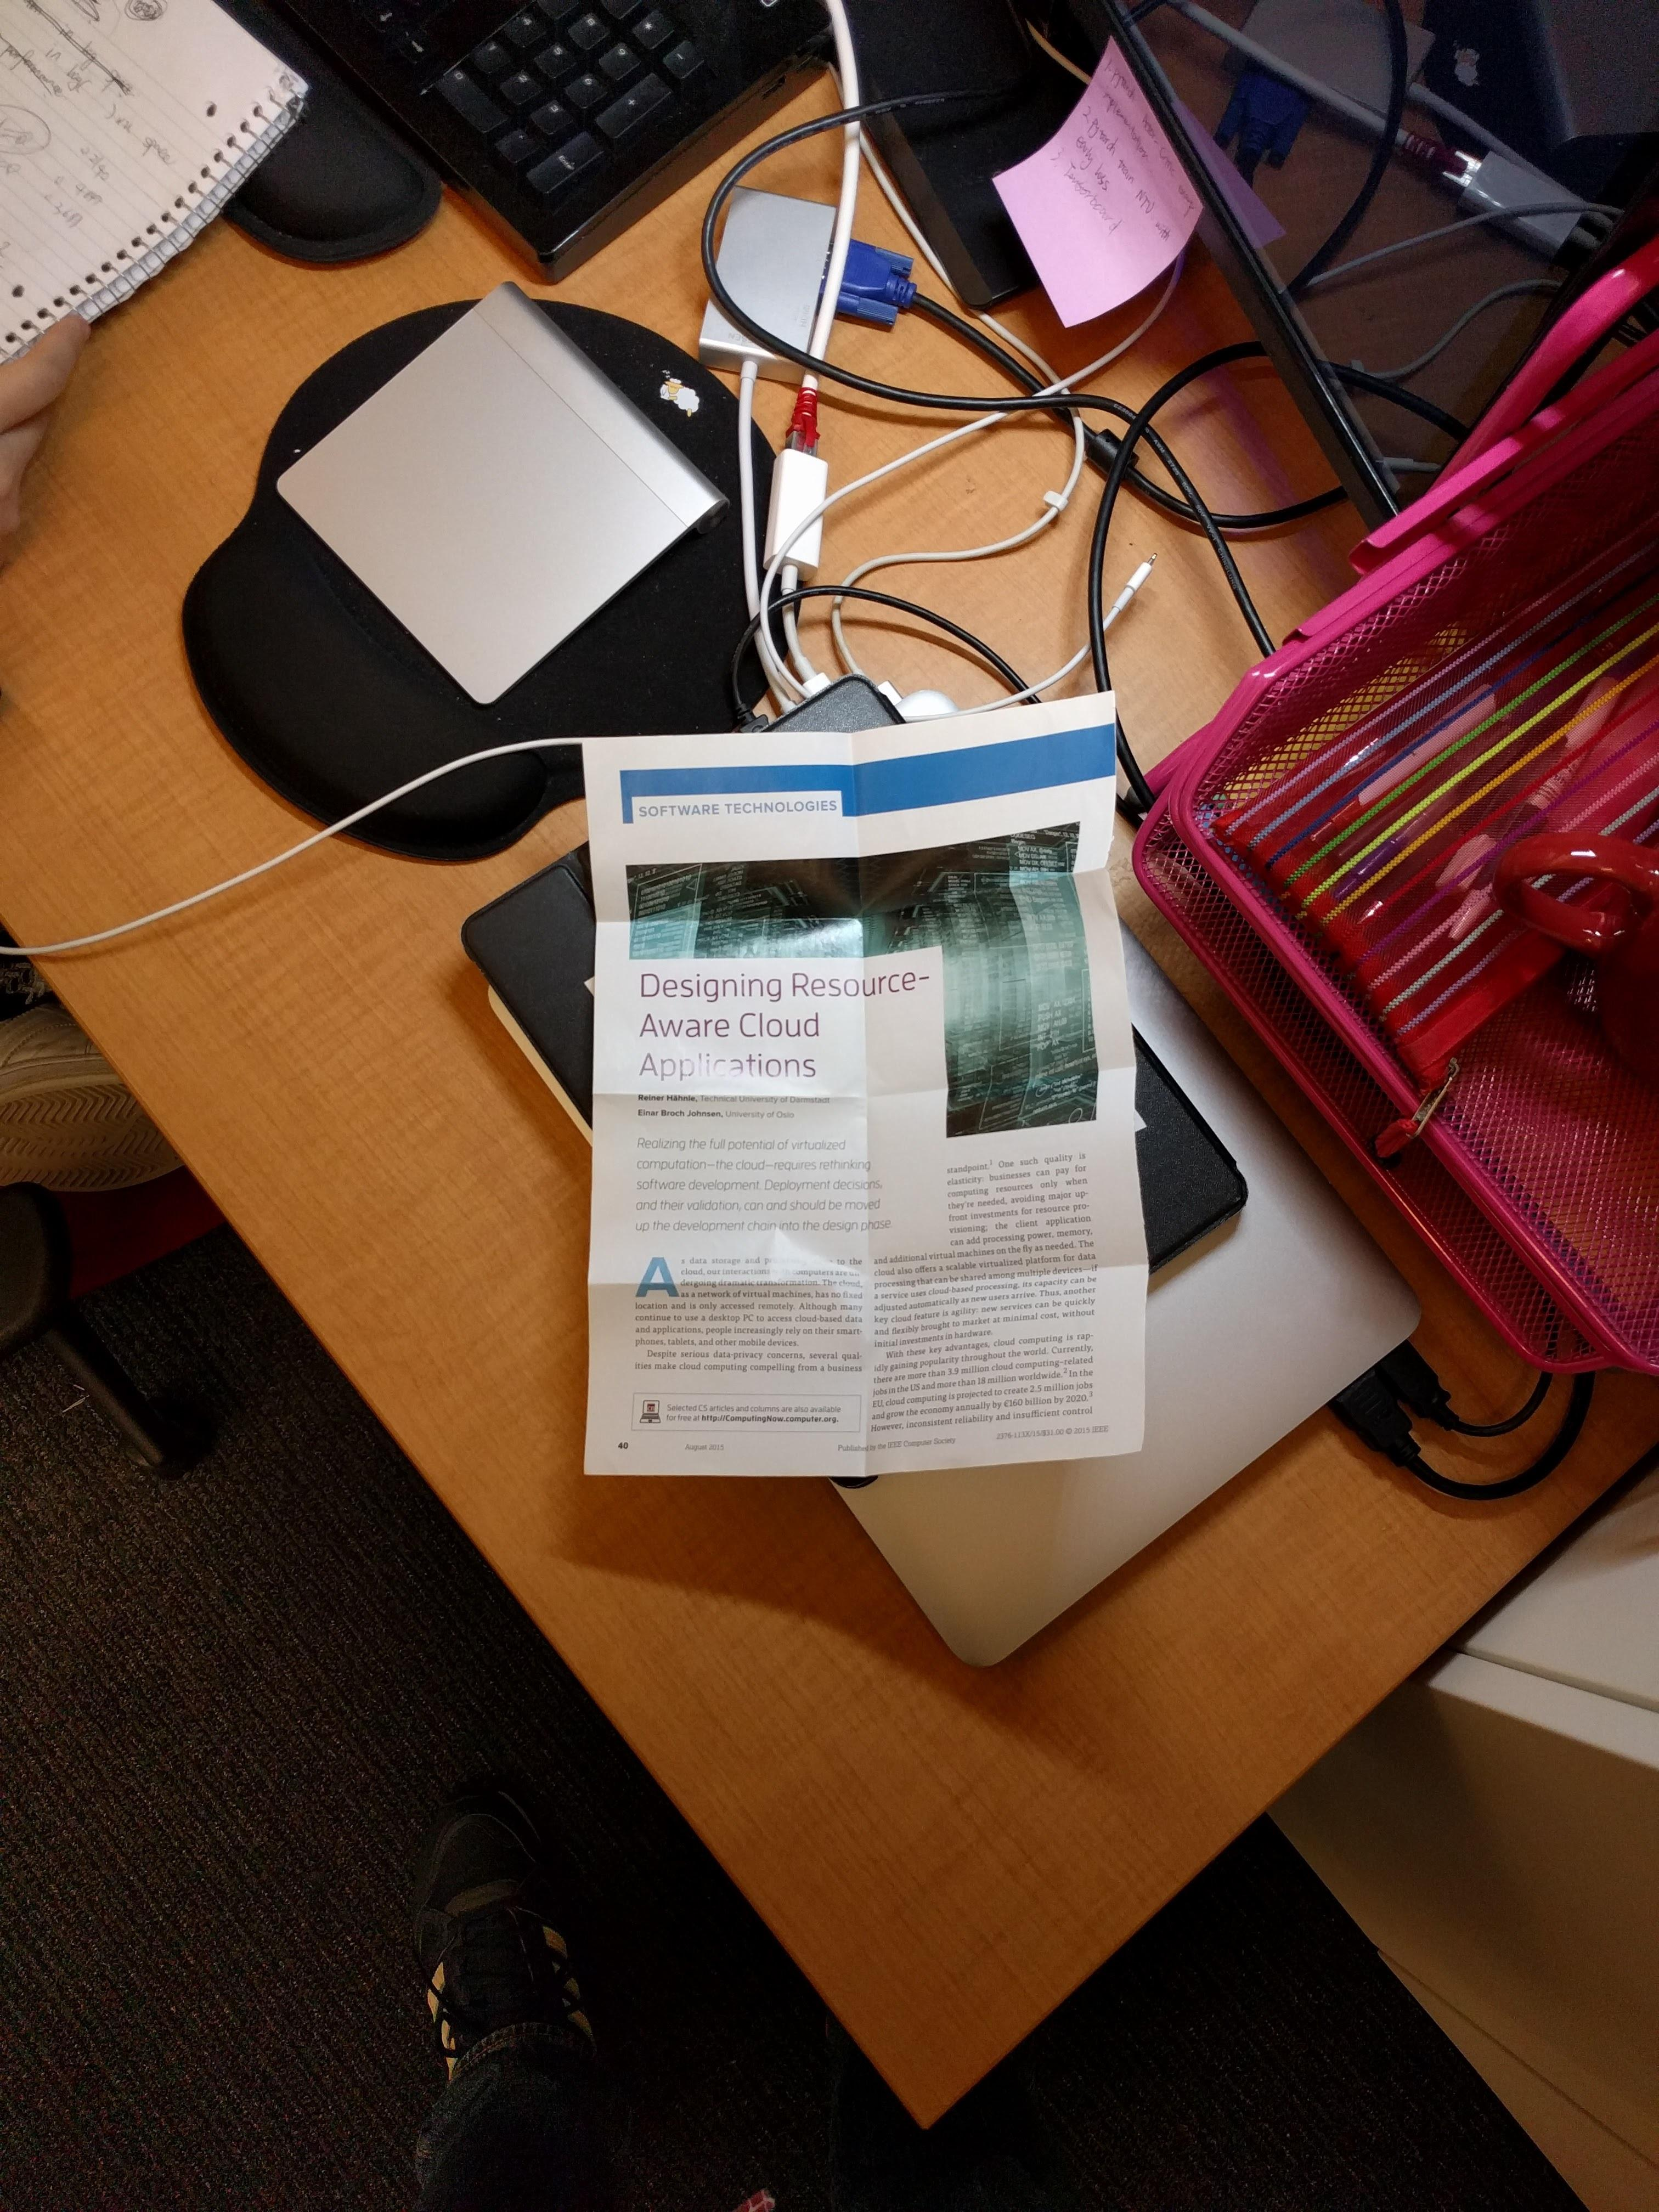paper: (429, 592, 1274, 1644)
